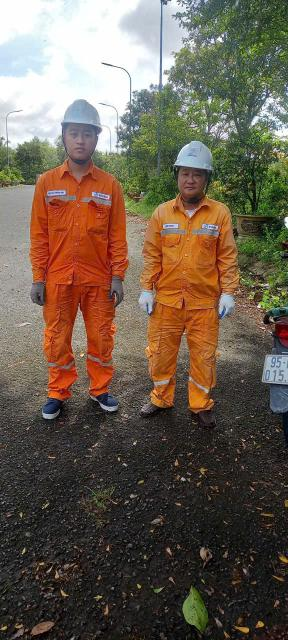gloves: (106, 263, 130, 316), (212, 288, 246, 323), (19, 276, 54, 308), (138, 284, 162, 323)
helmet: (172, 137, 217, 177), (59, 98, 107, 134)
shoes: (80, 382, 128, 418), (184, 391, 227, 431), (37, 388, 77, 427), (137, 388, 180, 424)
